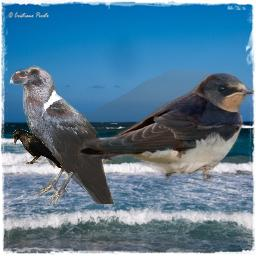Crow: (9, 65, 115, 204), (13, 129, 62, 168)
Swallow: (78, 70, 254, 182)
